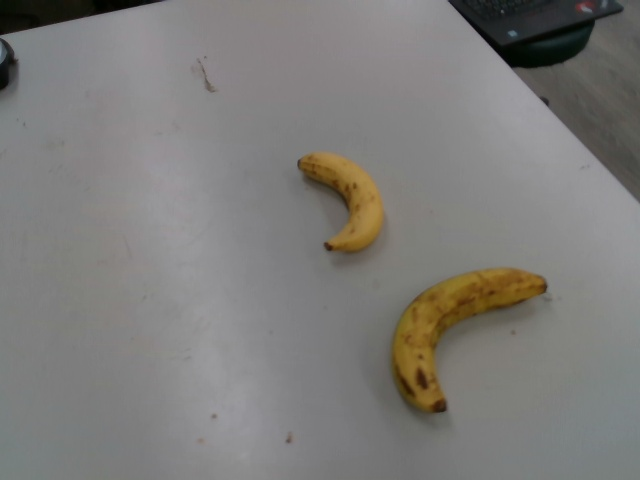banana: (389, 266, 551, 417), (295, 150, 385, 257)
